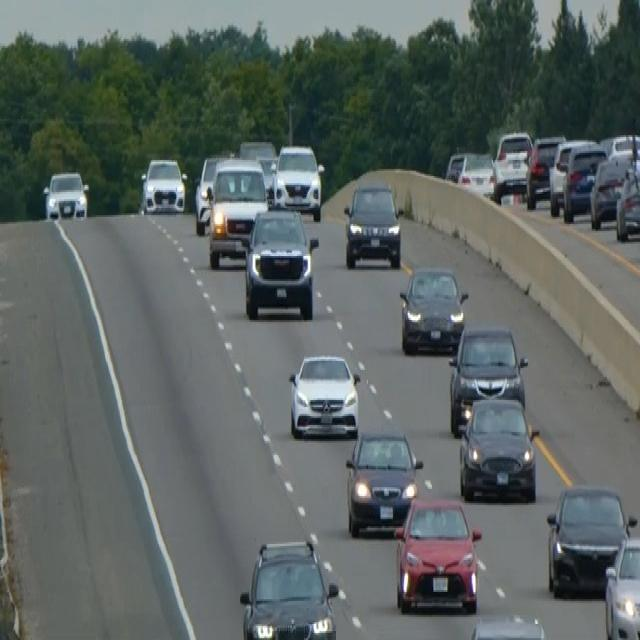car: (393, 494, 482, 615), (545, 482, 635, 597), (238, 537, 338, 638), (447, 322, 528, 436), (458, 395, 539, 503), (345, 428, 423, 537), (206, 156, 269, 266), (398, 263, 468, 354), (287, 352, 360, 439), (343, 180, 401, 268), (273, 142, 324, 220), (589, 151, 639, 229), (603, 535, 639, 638), (548, 137, 595, 215), (562, 142, 607, 222), (525, 133, 565, 208), (492, 128, 533, 201), (193, 153, 229, 235), (139, 156, 186, 214), (445, 150, 495, 198), (42, 169, 88, 220), (238, 137, 277, 197), (465, 612, 548, 638), (615, 165, 639, 242), (600, 132, 639, 166), (238, 137, 276, 162), (445, 151, 465, 183)
jeep: (241, 202, 320, 322)
